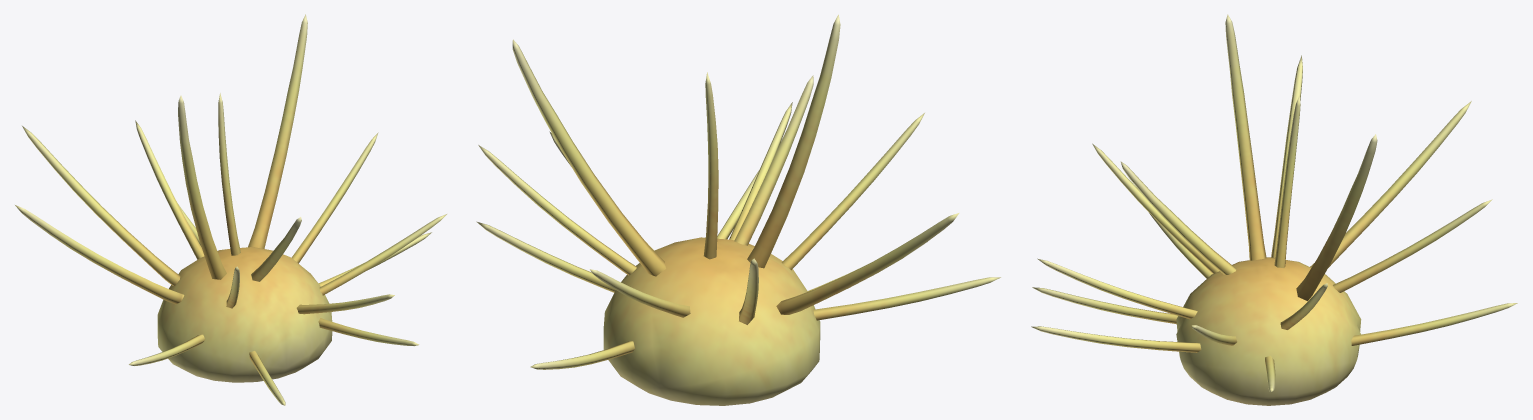
Rendered from Cartoon Seaweed_13-2-41.fbx.
The picture shows the model from 3 angles, left to right: view 1: azimuth 30°, elevation 25°; view 2: azimuth 150°, elevation 25°; view 3: azimuth 270°, elevation 25°; orthographic projection. The views are drawn at different scales.
Parts seen in each view (by area): view 1: Cartoon Seaweed_13.2.41; view 2: Cartoon Seaweed_13.2.41; view 3: Cartoon Seaweed_13.2.41.
Boxes of the visible parts, x1=… form: Cartoon Seaweed_13.2.41: x1=15, y1=14, x2=446, y2=405; Cartoon Seaweed_13.2.41: x1=476, y1=14, x2=1000, y2=405; Cartoon Seaweed_13.2.41: x1=1031, y1=14, x2=1517, y2=405.
Bounding box in the file's own units: 19.15 × 13.31 × 18.64.
Materials: 1 (1 with a texture image).
